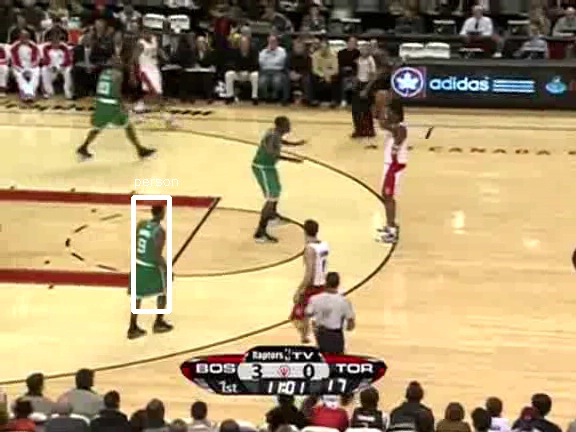person: (132, 219, 166, 300), (131, 219, 165, 300), (133, 219, 167, 300), (132, 218, 166, 299), (132, 220, 166, 301)
target_negative: (371, 15, 511, 95), (309, 210, 495, 257), (353, 350, 482, 407), (456, 103, 479, 382), (534, 200, 573, 349), (273, 360, 303, 377)
